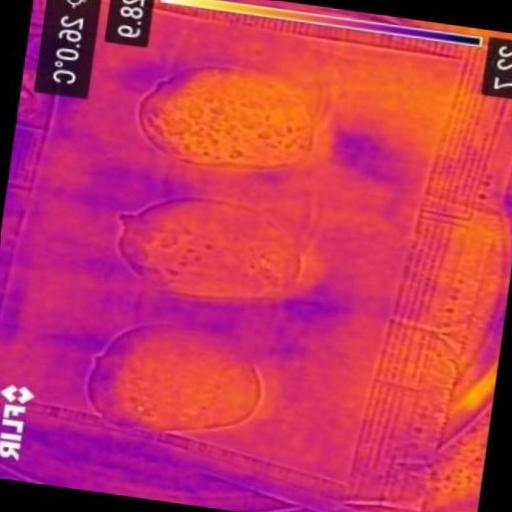alphanso: (139, 68, 315, 173), (121, 199, 301, 299), (90, 325, 261, 430)
